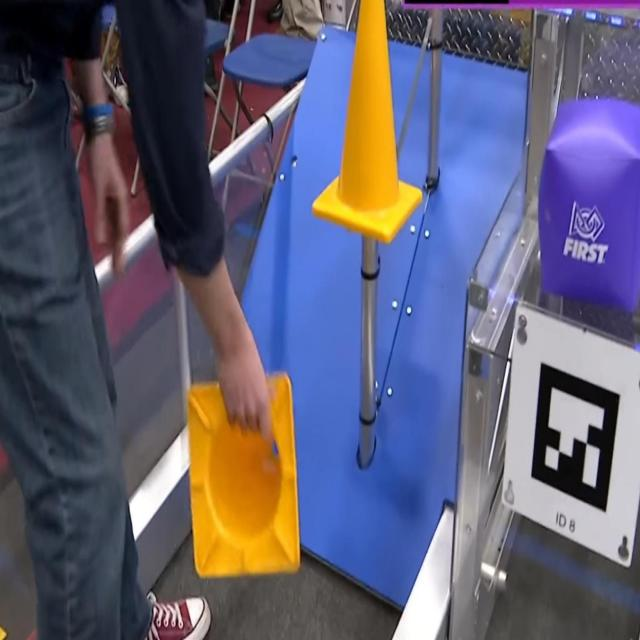frc_cone: (176, 359, 307, 586), (312, 0, 422, 246)
frc_cube: (539, 94, 640, 312)
